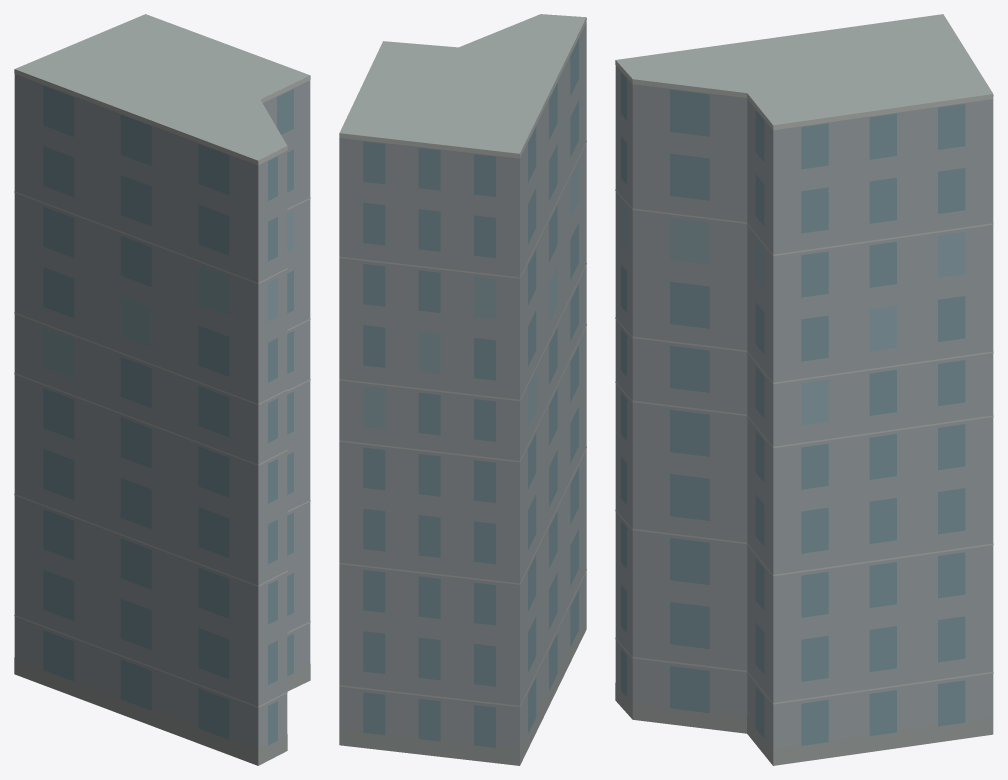
Rendered from survey-upis-32772499.glb.
The picture shows the model from 3 angles, left to right: view 1: azimuth 30°, elevation 25°; view 2: azimuth 150°, elevation 25°; view 3: azimuth 270°, elevation 25°; orthographic projection. The views are drawn at different scales.
Visible parts, largest first — view 1: survey-upis-32772499.tmp; view 2: survey-upis-32772499.tmp; view 3: survey-upis-32772499.tmp.
Part boxes in pixels (left/top/right/bottom): survey-upis-32772499.tmp: left=14, top=14, right=310, bottom=765; survey-upis-32772499.tmp: left=339, top=14, right=586, bottom=765; survey-upis-32772499.tmp: left=615, top=14, right=993, bottom=765.
Bounding box in the file's own units: 11.69 × 31.3 × 16.76.
